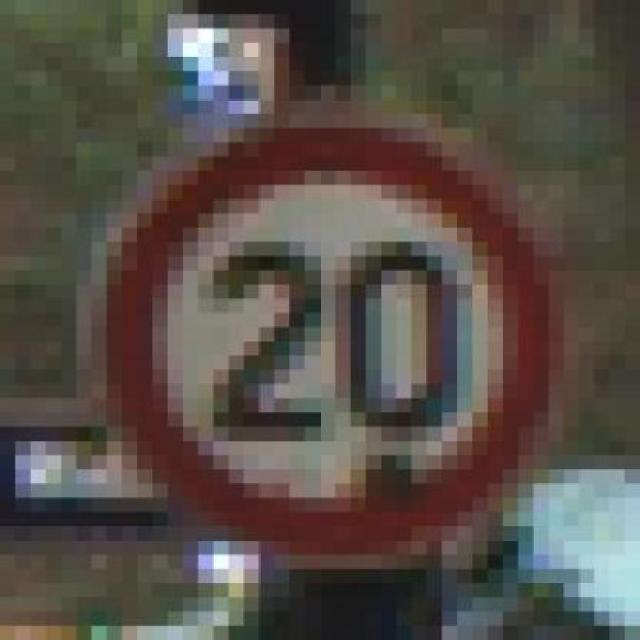forb_speed_over_20: (122, 128, 540, 545)
